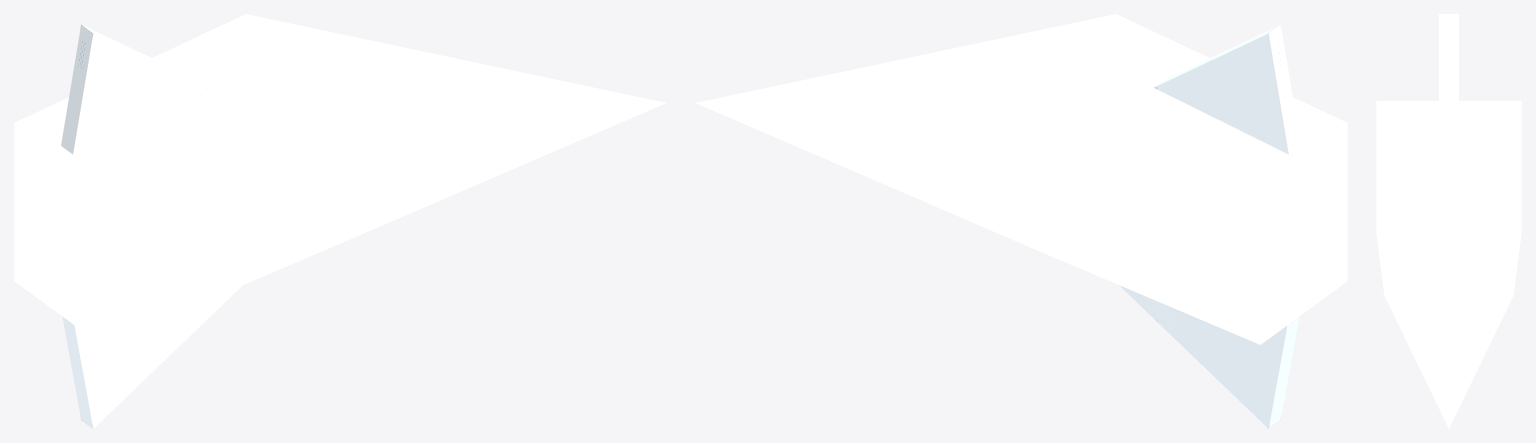
File: thorn.glb
The picture shows the model from 3 angles, left to right: view 1: azimuth 30°, elevation 25°; view 2: azimuth 150°, elevation 25°; view 3: azimuth 270°, elevation 25°; orthographic projection. The views are drawn at different scales.
Visible parts, largest first — view 1: thorn; view 2: thorn; view 3: thorn.
Part boxes in pixels (x1,y1,x2,y2): thorn: (14,14,665,428); thorn: (696,14,1347,428); thorn: (1376,14,1521,428).
Bounding box in the file's own units: 0.145 × 0.09 × 0.036.
Materials: 2 (2 with a texture image).
